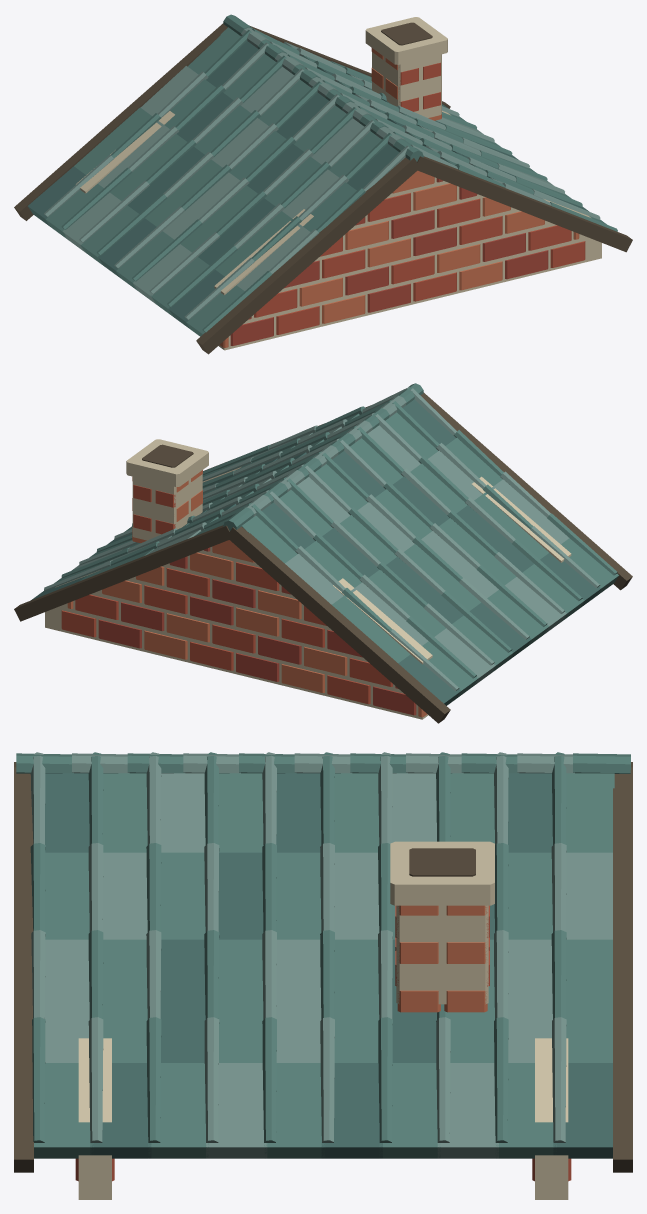
File: brick_roof.glb
3 views of the same model, one above another, from view 1: azimuth 30°, elevation 25°; view 2: azimuth 150°, elevation 25°; view 3: azimuth 270°, elevation 25° (orthographic). The views are drawn at different scales.
Parts seen in each view (by area): view 1: brick_roof; view 2: brick_roof; view 3: brick_roof.
Part boxes in pixels (x1,y1,x2,y2): brick_roof: [14, 14, 632, 354]; brick_roof: [14, 383, 632, 723]; brick_roof: [14, 752, 632, 1199].
Bounding box in the file's own units: 0.7349 × 0.2796 × 0.556.
